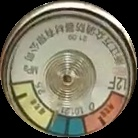green: (47, 111, 87, 138)
red: (83, 92, 131, 137)
yellow: (10, 81, 55, 132)
